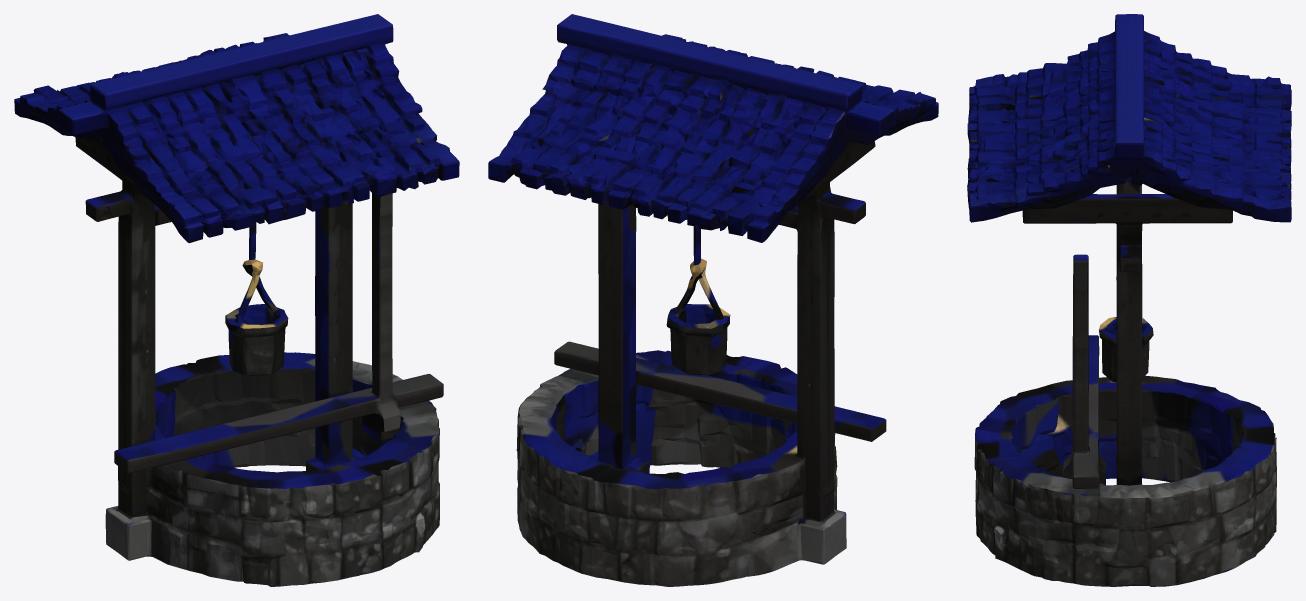
Rendered from traveler_env_coast_bayushi_household_well_00001_.glb.
3 views of the same model, side by side, from view 1: azimuth 30°, elevation 25°; view 2: azimuth 150°, elevation 25°; view 3: azimuth 270°, elevation 25° (orthographic). The views are drawn at different scales.
Visible parts, largest first — view 1: temp_mesh.ply; view 2: temp_mesh.ply; view 3: temp_mesh.ply.
Boxes of the visible parts, x1,y1,x2,y2 form: temp_mesh.ply: (14, 14, 459, 586); temp_mesh.ply: (488, 14, 938, 586); temp_mesh.ply: (967, 14, 1291, 586).
Size of the model in its own units: 1.53 by 1.97 by 1.34.
1 material, 1 textured.
